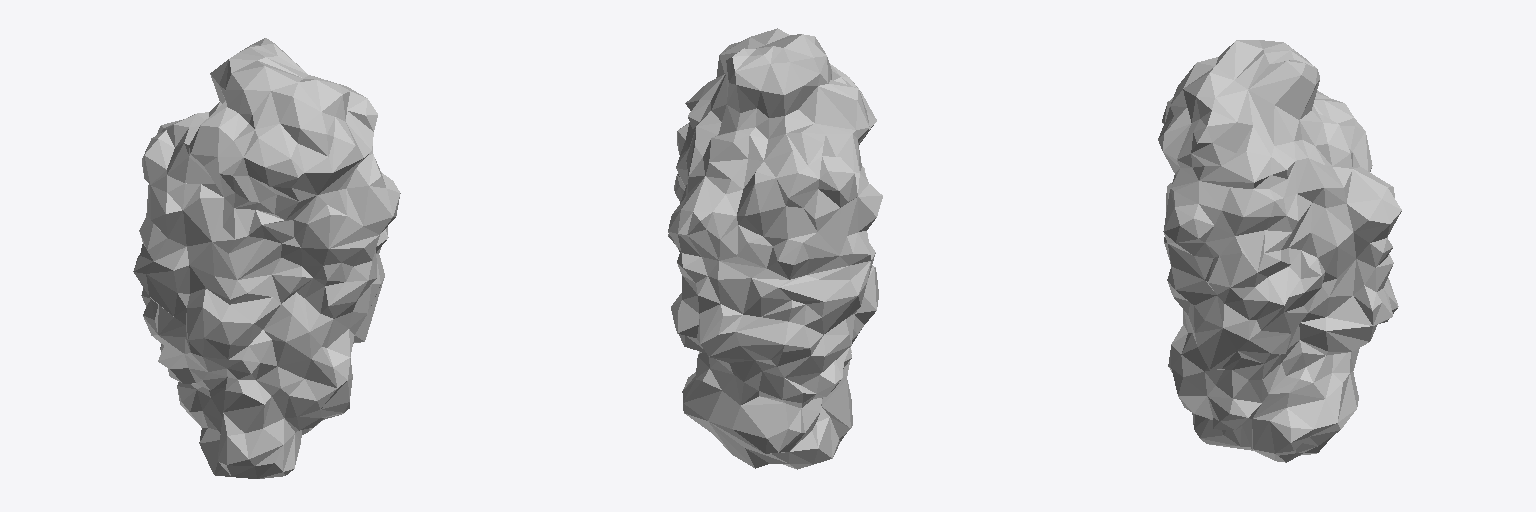
Rendered from Rock Large.obj.
3 views of the same model, side by side, from view 1: azimuth 30°, elevation 25°; view 2: azimuth 150°, elevation 25°; view 3: azimuth 270°, elevation 25° (orthographic).
Visible parts, largest first — view 1: SM_Cave_Rock_Large01_REDO; view 2: SM_Cave_Rock_Large01_REDO; view 3: SM_Cave_Rock_Large01_REDO.
Boxes of the visible parts, box(x1,y1,x2,y2) form: SM_Cave_Rock_Large01_REDO: box(133, 38, 400, 478); SM_Cave_Rock_Large01_REDO: box(668, 28, 882, 469); SM_Cave_Rock_Large01_REDO: box(1158, 40, 1401, 462).
Bounding box in the file's own units: 747 × 1398 × 740.